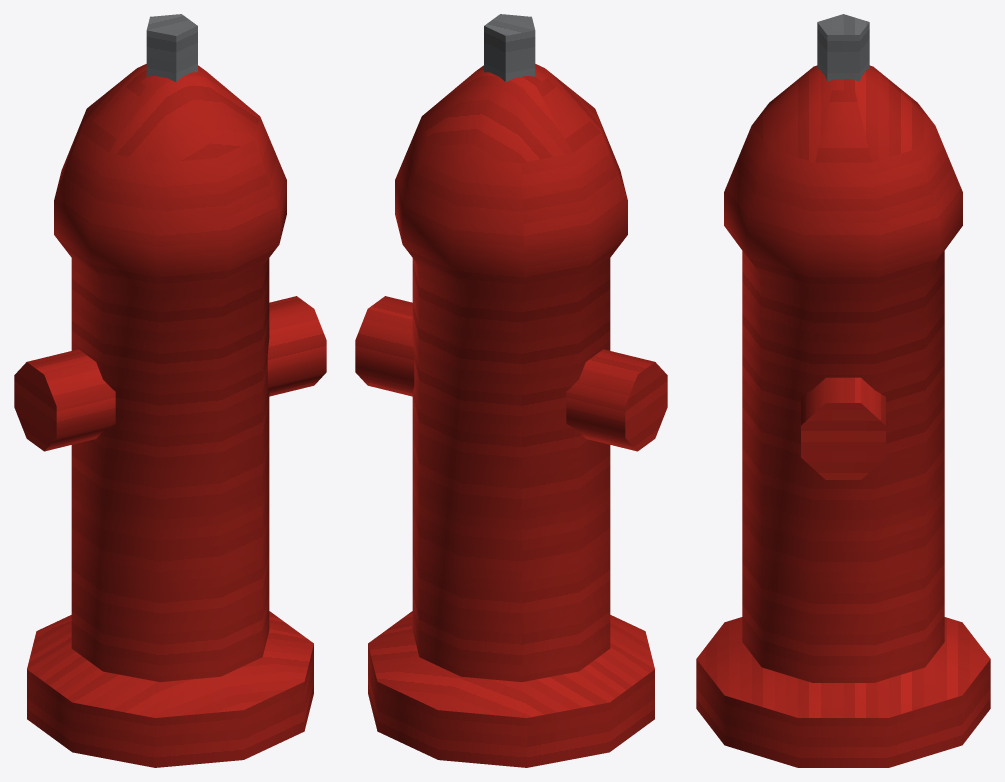
File: hidrante.glb
3 views of the same model, side by side, from view 1: azimuth 30°, elevation 25°; view 2: azimuth 150°, elevation 25°; view 3: azimuth 270°, elevation 25° (orthographic).
Visible parts, largest first — view 1: Inteiro; view 2: Inteiro; view 3: Inteiro.
Part boxes in pixels (x1,y1,x2,y2): Inteiro: [14, 14, 326, 767]; Inteiro: [355, 14, 667, 767]; Inteiro: [696, 14, 990, 767].
Bounding box in the file's own units: 0.34 × 0.82 × 0.32.
1 material, 1 textured.
